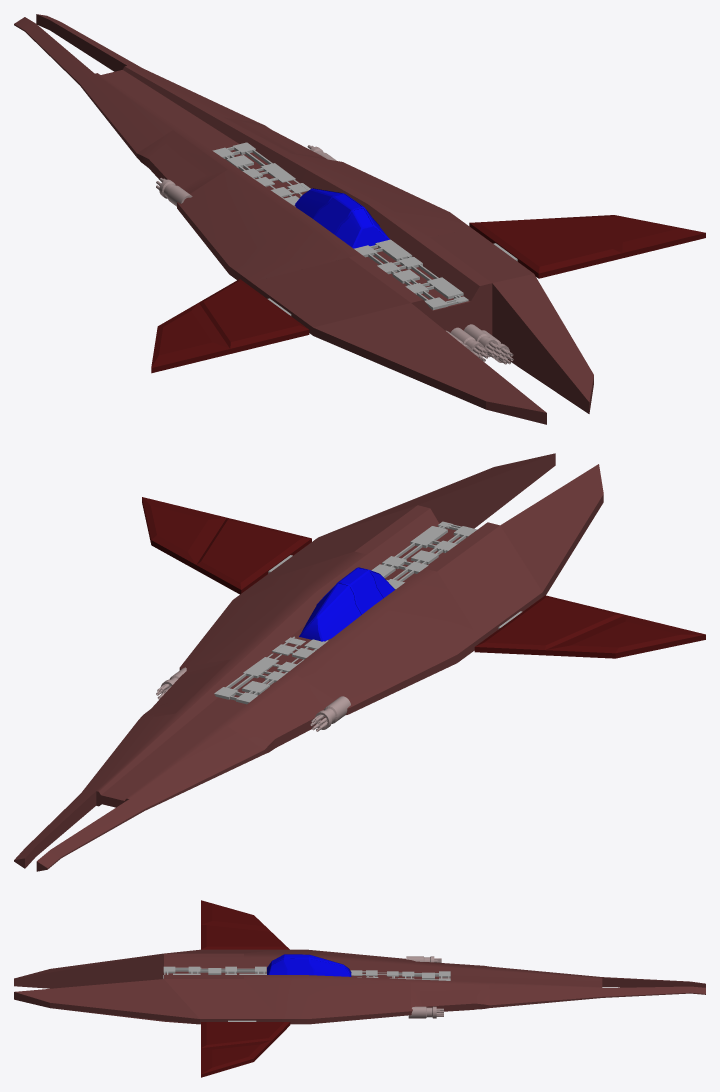
The model's file is spaceshipfbx.fbx.
3 views of the same model, one above another, from view 1: azimuth 30°, elevation 25°; view 2: azimuth 150°, elevation 25°; view 3: azimuth 270°, elevation 25° (orthographic). The views are drawn at different scales.
Parts seen in each view (by area): view 1: group3_pCube25; view 2: group3_pCube25; view 3: group3_pCube25.
Boxes of the visible parts, x1=… form: group3_pCube25: x1=14, y1=14, x2=705, y2=424; group3_pCube25: x1=14, y1=453, x2=705, y2=871; group3_pCube25: x1=14, y1=900, x2=705, y2=1077.
Bounding box in the file's own units: 14.66 × 2.09 × 24.6.
